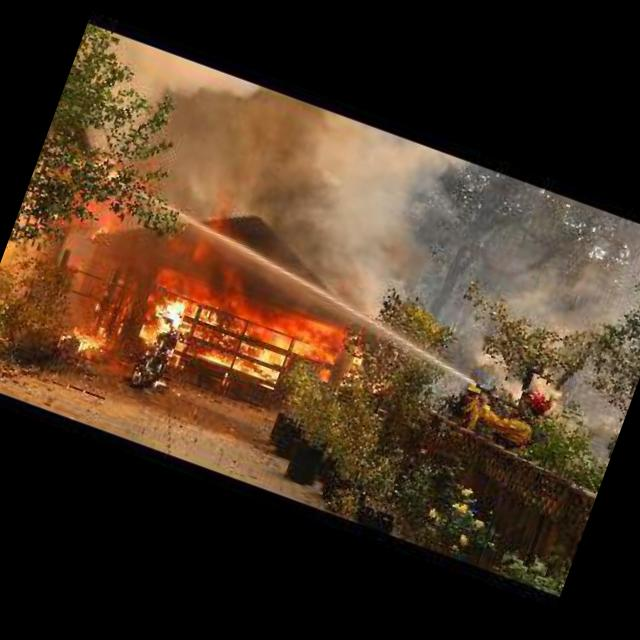fire: (66, 231, 376, 453)
smoke: (152, 63, 482, 303)
